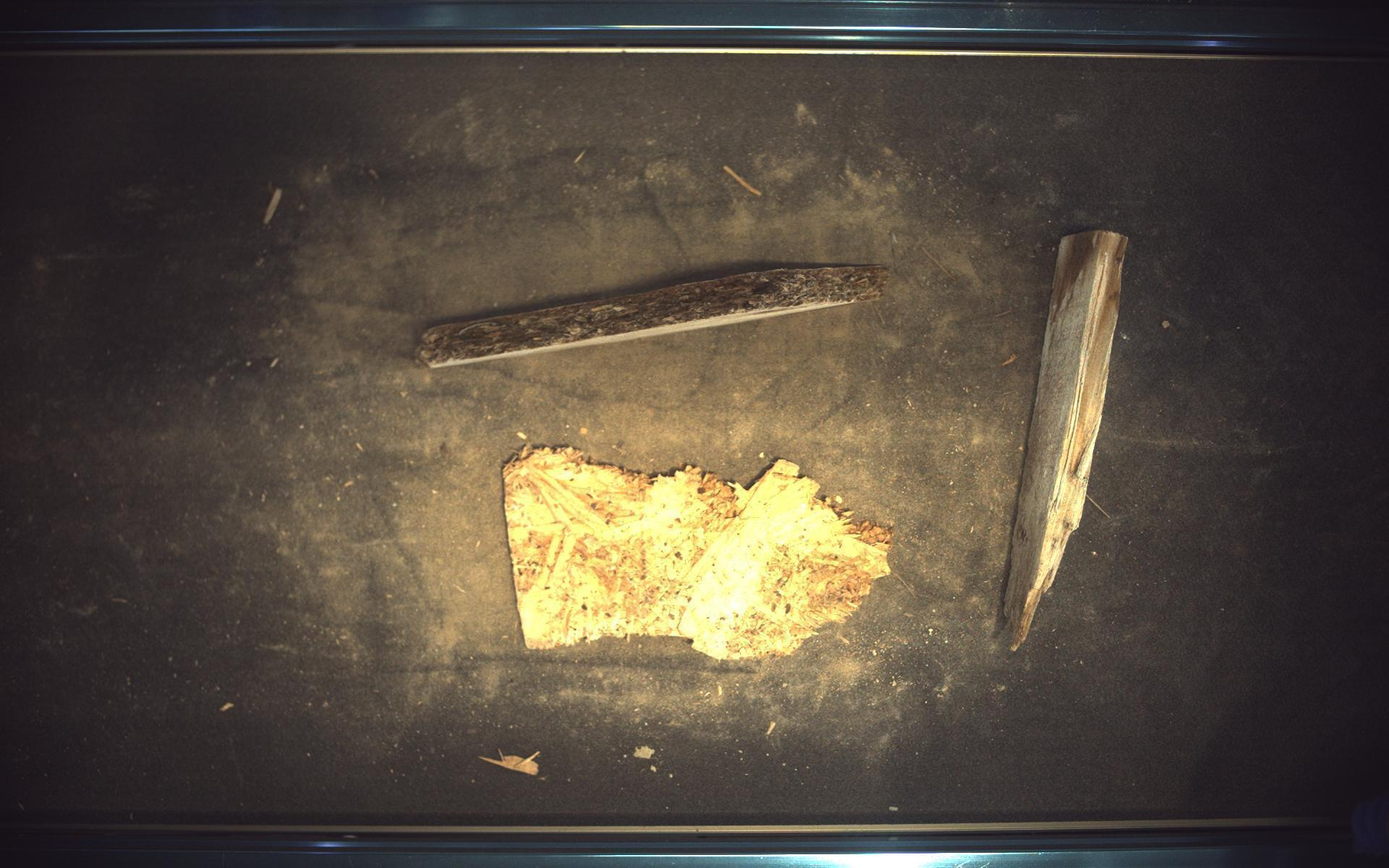wood: (505, 447, 893, 660), (1005, 229, 1130, 651), (417, 265, 890, 367)
